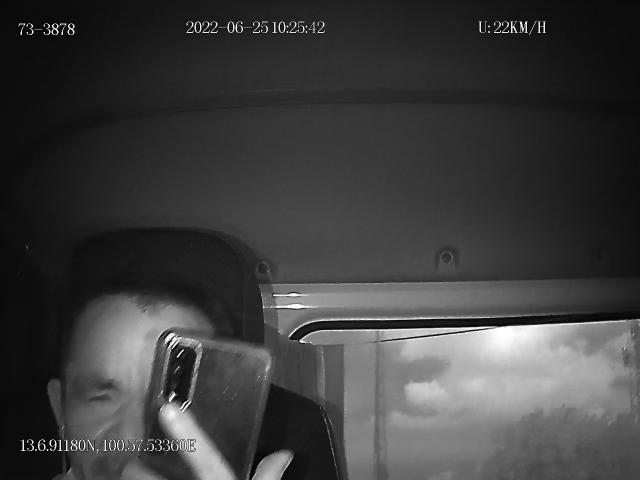Phone: (138, 330, 274, 480)
